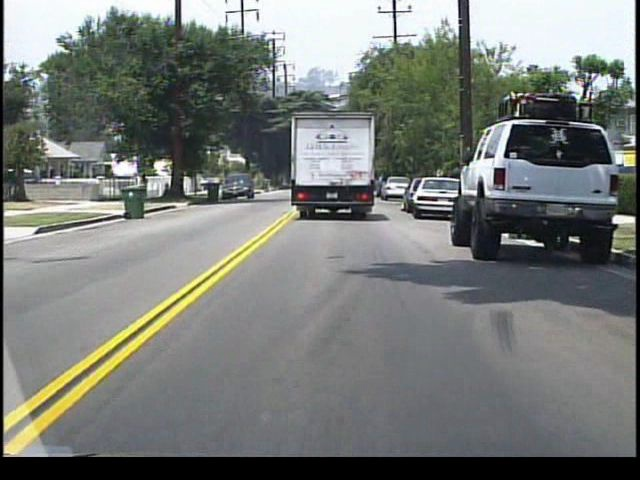person: (139, 171, 151, 199)
